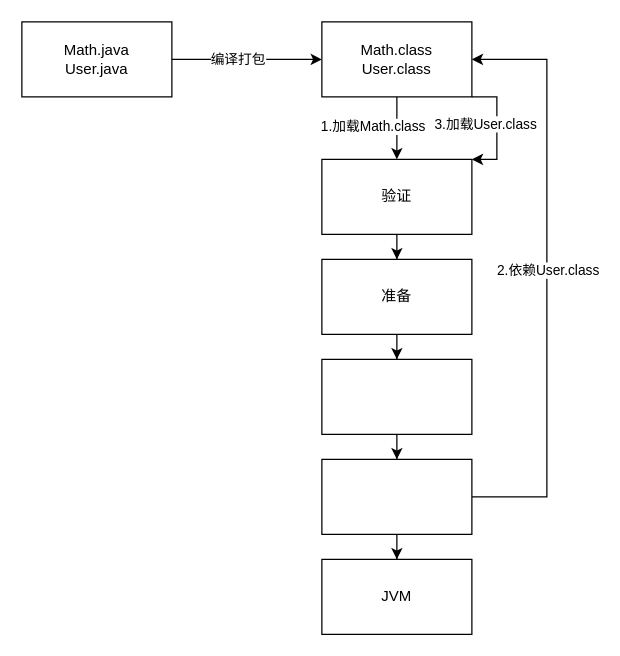
Image size: 620x656. Some labels were removed from this diagram. Each missing label, with the centre of its shape:
"初始化" belongs at pixel 396 496.
"解析" belongs at pixel 396 396.
